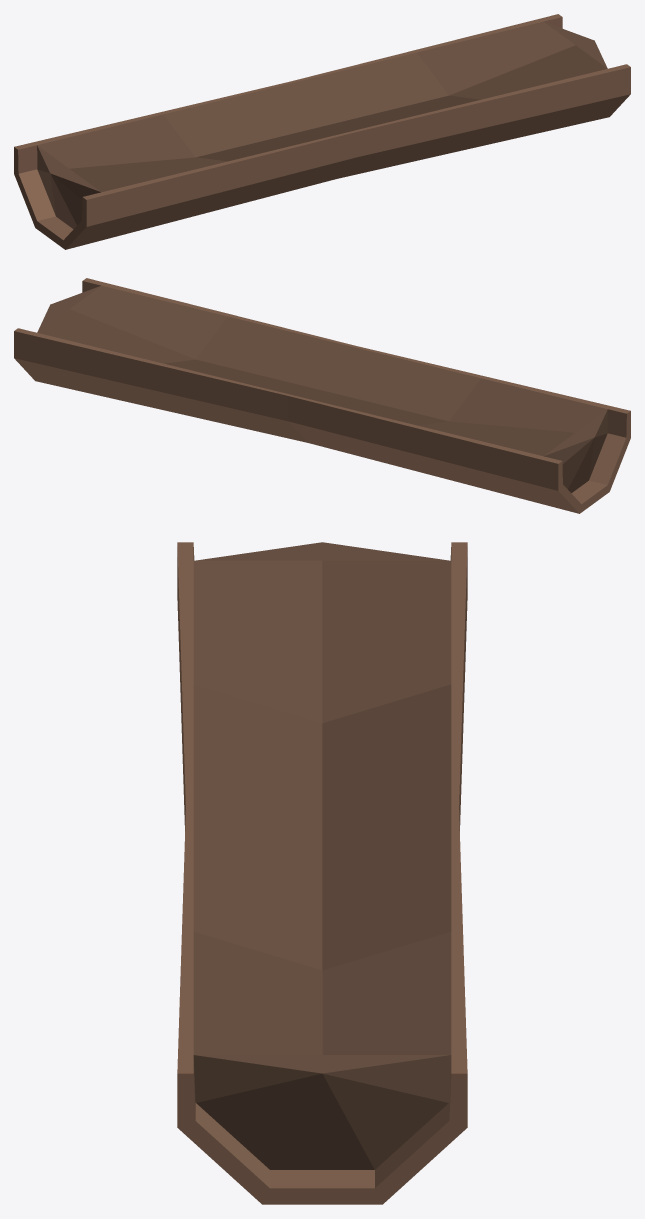
The model's file is Log_2_Light_Brown.fbx.
3 renders of one model, top to bottom at view 1: azimuth 30°, elevation 25°; view 2: azimuth 150°, elevation 25°; view 3: azimuth 270°, elevation 25°, orthographic. The views are drawn at different scales.
Parts seen in each view (by area): view 1: Log_2_Light_Brown; view 2: Log_2_Light_Brown; view 3: Log_2_Light_Brown.
Boxes of the visible parts, left/top/right/bottom form: Log_2_Light_Brown: left=14, top=14, right=630, bottom=249; Log_2_Light_Brown: left=14, top=278, right=630, bottom=513; Log_2_Light_Brown: left=177, top=542, right=467, bottom=1204.
Bounding box in the file's own units: 200 × 23.02 × 46.18.
